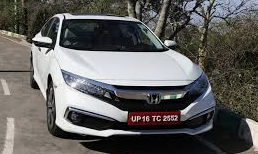car: (28, 12, 217, 146)
